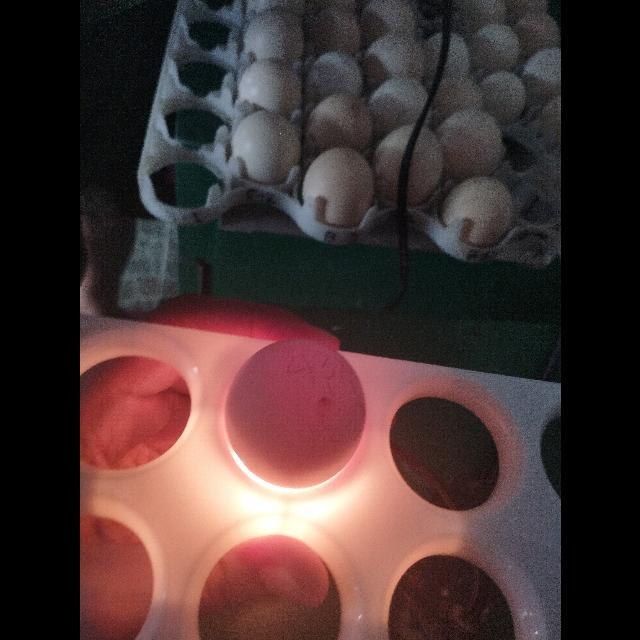Fertile: (220, 334, 370, 492)
